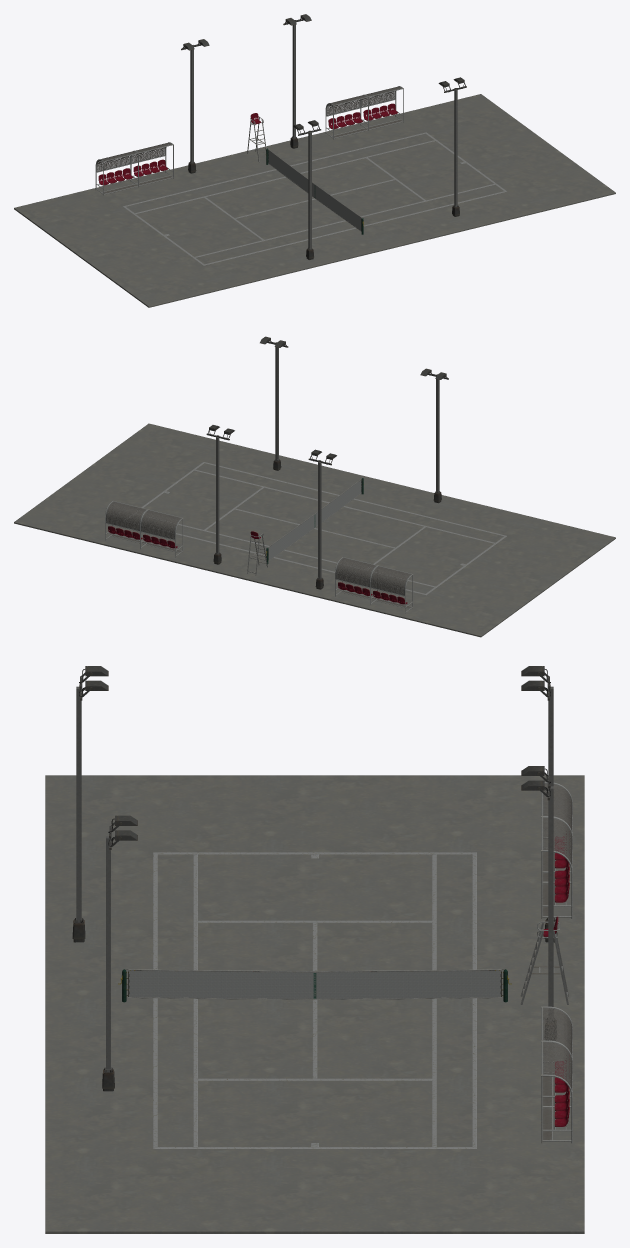
File: Tennis.fbx
3 renders of one model, top to bottom at view 1: azimuth 30°, elevation 25°; view 2: azimuth 150°, elevation 25°; view 3: azimuth 270°, elevation 25°, orthographic. The views are drawn at different scales.
Visible parts, largest first — view 1: SM_TennisField1.mo; view 2: SM_TennisField1.mo; view 3: SM_TennisField1.mo.
Boxes of the visible parts, x1,y1,x2,y2 form: SM_TennisField1.mo: (14, 14, 615, 307); SM_TennisField1.mo: (14, 336, 615, 637); SM_TennisField1.mo: (45, 666, 584, 1233).
Bounding box in the file's own units: 3657 × 1000 × 1829.
